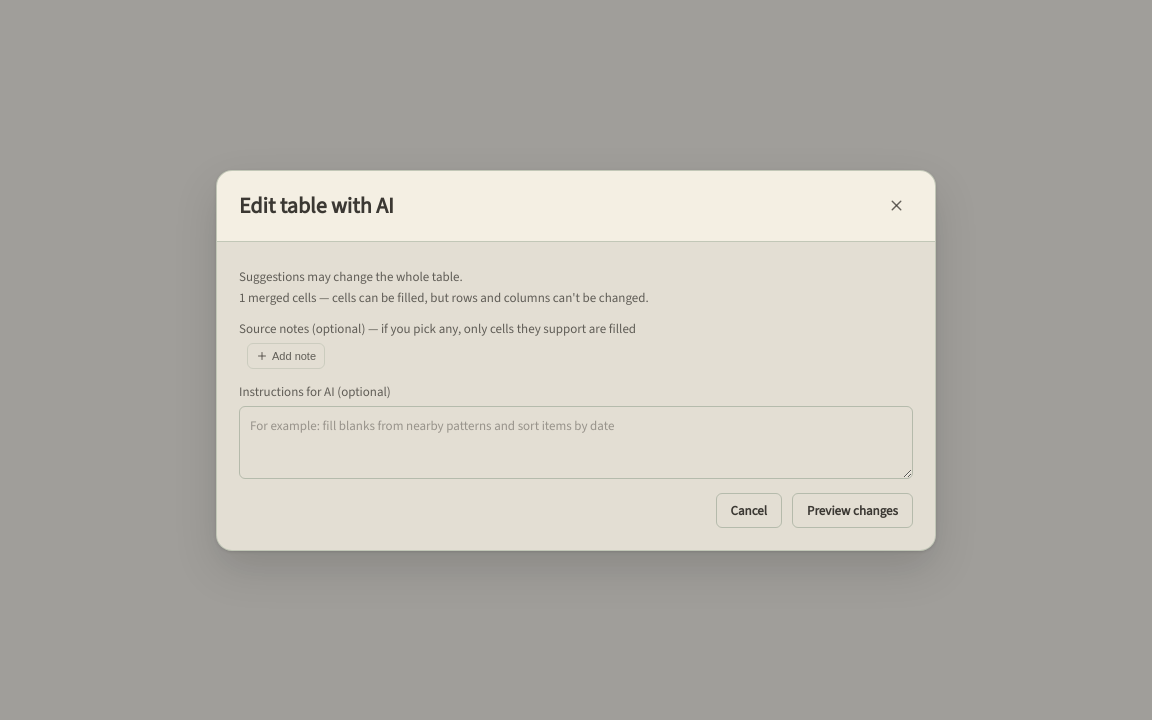
Test: TableAiModal — fingerprint injection and image cells › applies after the injected fingerprint too (apply re-checks the document, so stale edits are still caught)
The width and height of the screenshot is (1152, 720).
Click the button "Preview changes".
click(853, 510)  # box [792,492,913,528]
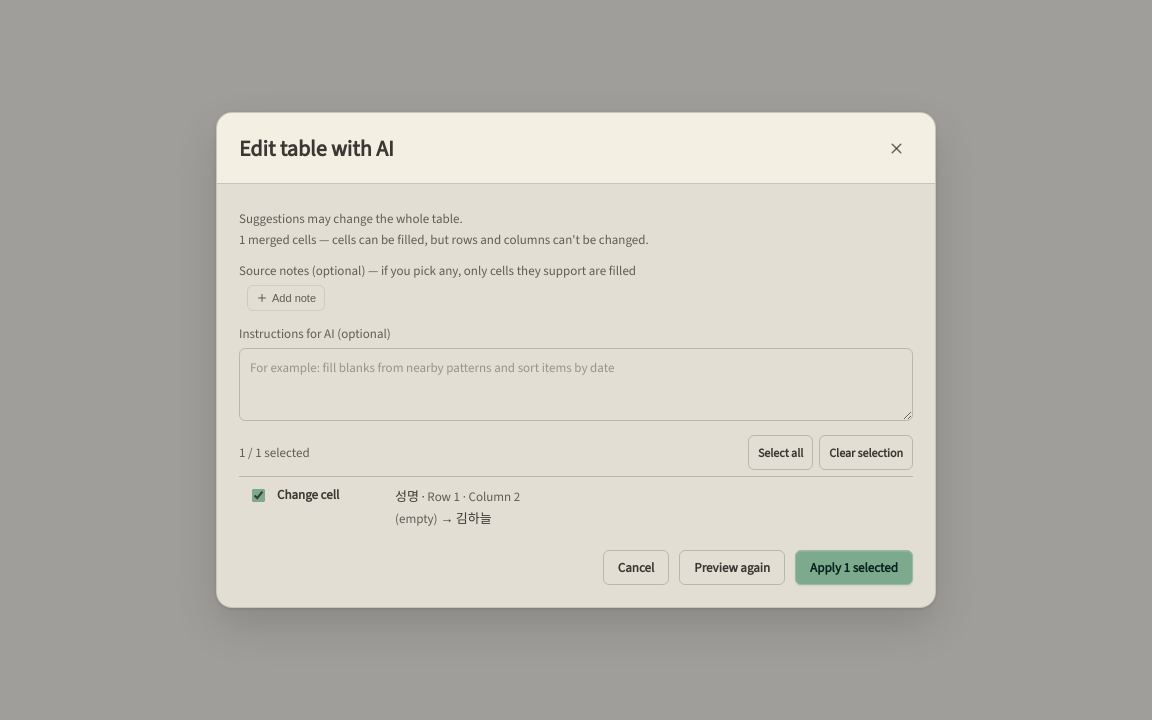
Click the button "Apply 1 selected".
click(854, 568)  # box [795,550,913,585]
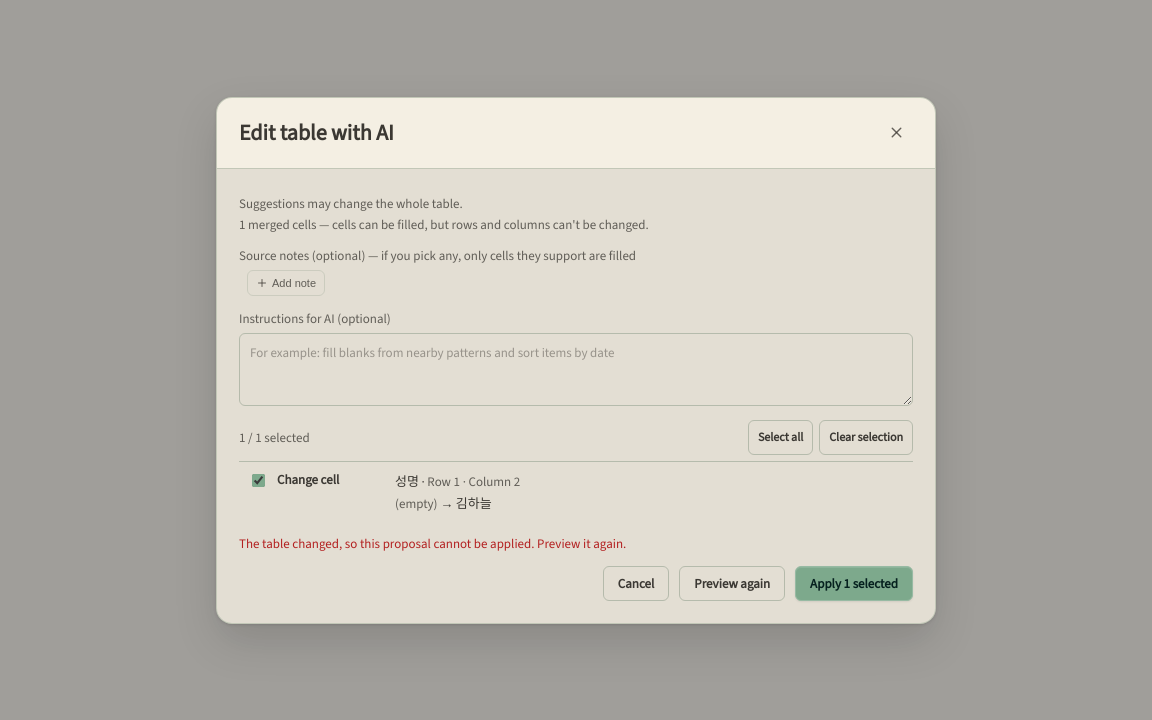
Expected: the message reads "The table changed, so this proposal cannot be applied. Preview it again.", [239,534,626,552]
